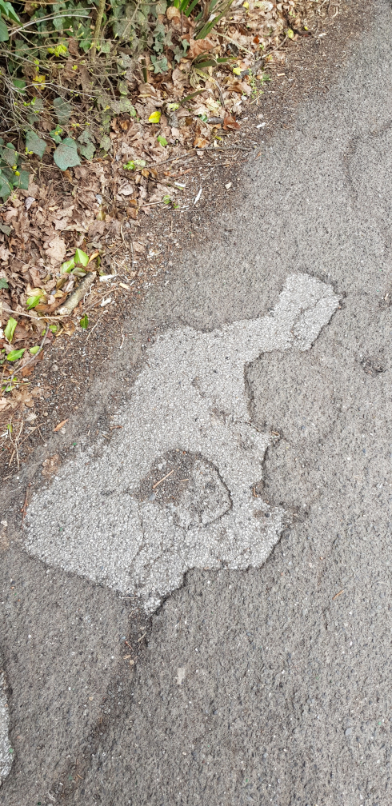pothole: (8, 263, 349, 617), (136, 446, 237, 532)
